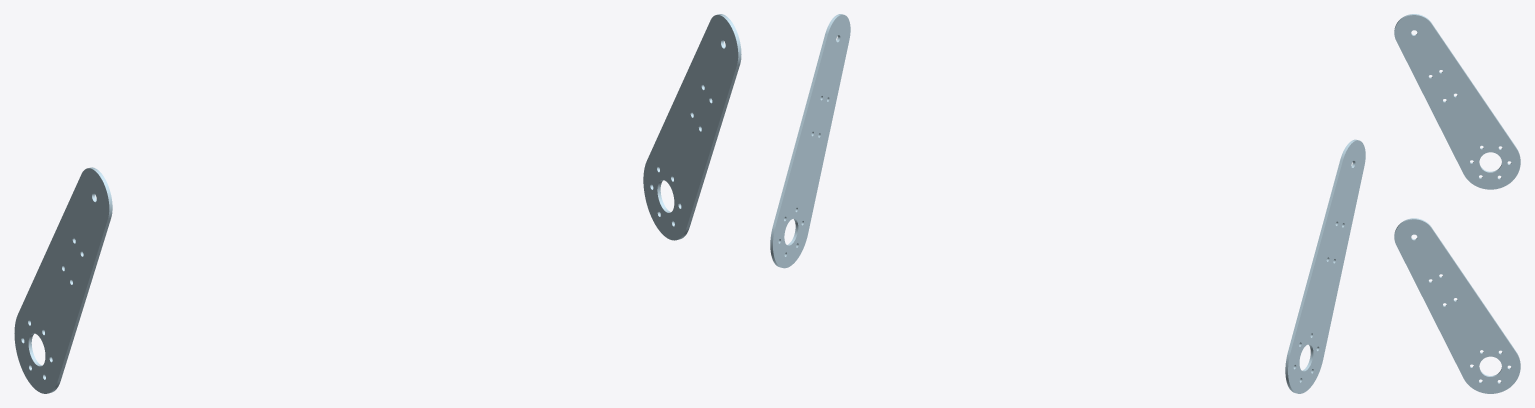
The picture shows the model from 3 angles, left to right: view 1: azimuth 30°, elevation 25°; view 2: azimuth 150°, elevation 25°; view 3: azimuth 270°, elevation 25°; orthographic projection. The views are drawn at different scales.
Visible parts, largest first — view 1: HB26-03-021 (×2); view 2: HB26-03-021 (×2); view 3: HB26-03-021 (×2).
Boxes of the visible parts, bbox=[...] form: HB26-03-021 (×2): bbox=[14, 14, 741, 393]; HB26-03-021 (×2): bbox=[770, 14, 1365, 393]; HB26-03-021 (×2): bbox=[1394, 14, 1520, 393].
Size of the model in its own units: 0.6175 by 0.2448 by 0.1605.
